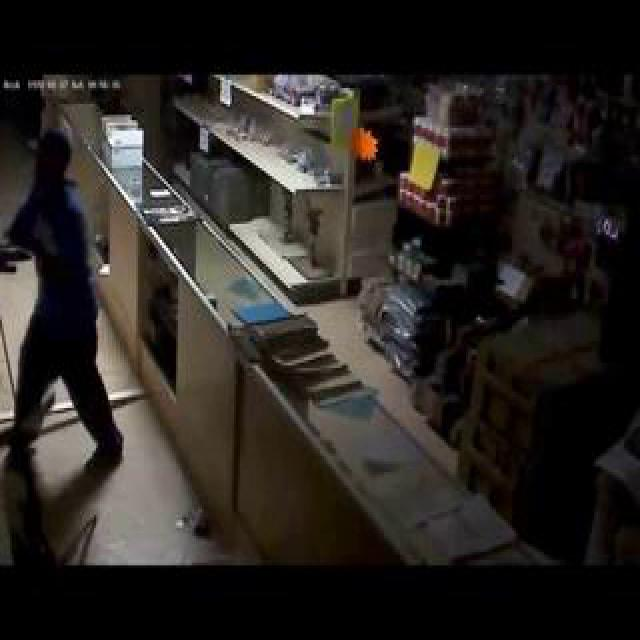burglary: (2, 67, 204, 570)
